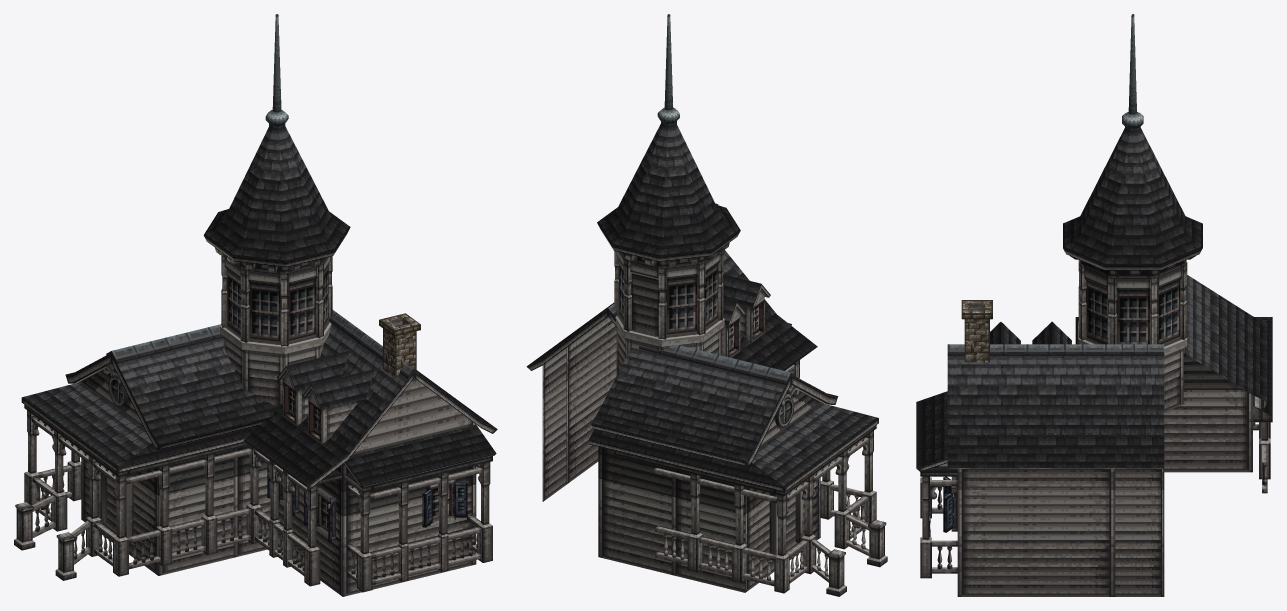
The model's file is EnvBdgMD_Wilderness_A_Outdoor_A.FBX.
The picture shows the model from 3 angles, left to right: view 1: azimuth 30°, elevation 25°; view 2: azimuth 150°, elevation 25°; view 3: azimuth 270°, elevation 25°; orthographic projection. The views are drawn at different scales.
Visible parts, largest first — view 1: EnvBdgMD_Wilderness_A_Outdoor_A; view 2: EnvBdgMD_Wilderness_A_Outdoor_A; view 3: EnvBdgMD_Wilderness_A_Outdoor_A.
Boxes of the visible parts, x1,y1,x2,y2 form: EnvBdgMD_Wilderness_A_Outdoor_A: (14,14,497,596); EnvBdgMD_Wilderness_A_Outdoor_A: (526,14,887,596); EnvBdgMD_Wilderness_A_Outdoor_A: (916,14,1272,596).
Bounding box in the file's own units: 1045 × 1474 × 905.
1 material, 1 textured.
